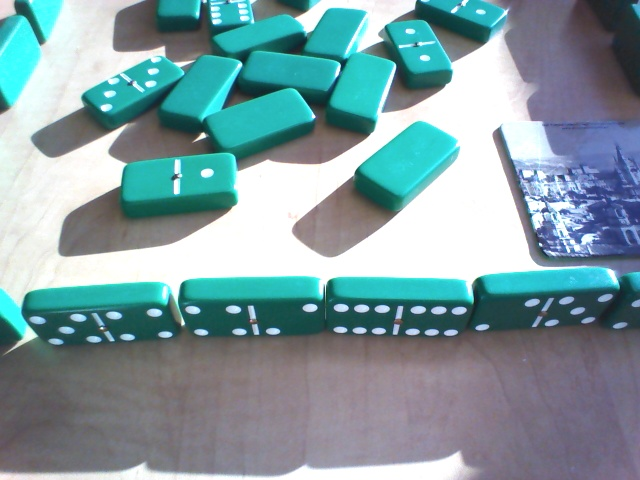A: (353, 116, 463, 216), (214, 81, 319, 155), (329, 49, 397, 136), (165, 50, 236, 124), (209, 10, 309, 61), (245, 45, 341, 97), (303, 6, 366, 60), (153, 2, 203, 31)
B: (81, 53, 182, 132), (116, 149, 239, 213), (382, 17, 464, 92), (409, 1, 520, 45), (208, 1, 255, 27)
C: (2, 15, 43, 108), (11, 1, 68, 40)
D: (608, 4, 640, 103)
E: (323, 272, 471, 349), (178, 277, 329, 342), (22, 287, 181, 348), (475, 272, 617, 337), (618, 268, 640, 342)
